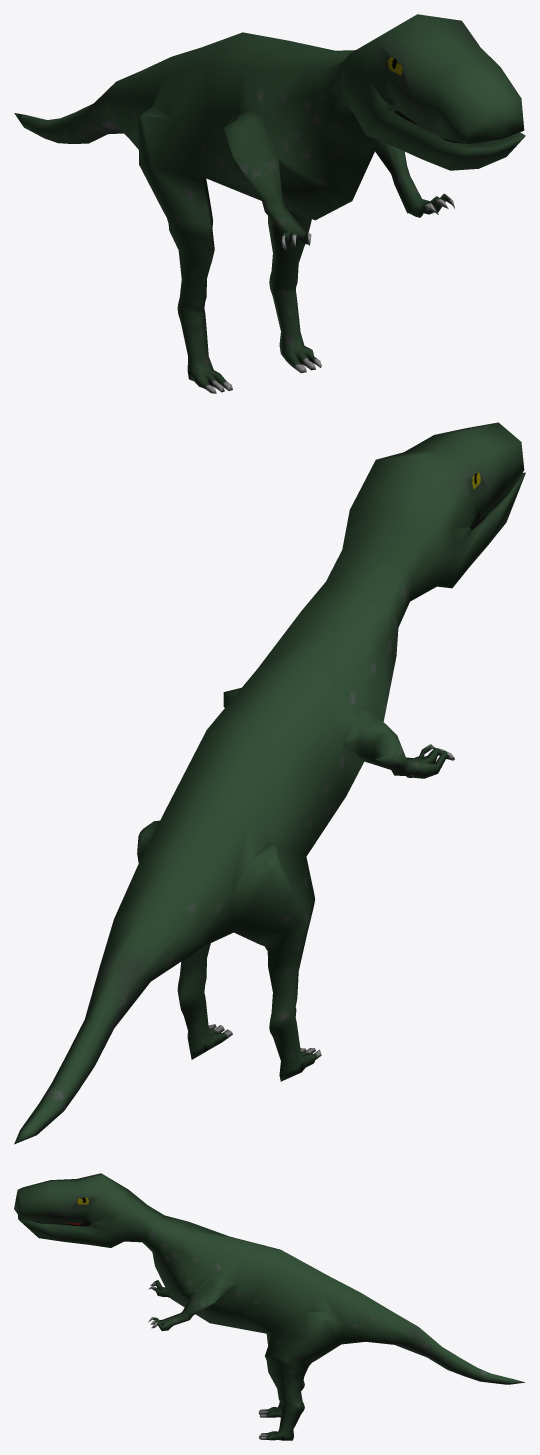
The model's file is albertosaurus.fbx.
3 renders of one model, top to bottom at view 1: azimuth 30°, elevation 25°; view 2: azimuth 150°, elevation 25°; view 3: azimuth 270°, elevation 25°, orthographic. The views are drawn at different scales.
Parts seen in each view (by area): view 1: Cube; view 2: Cube; view 3: Cube.
Part boxes in pixels (box(x1,y1,x2,y2)): Cube: box(14, 14, 525, 393); Cube: box(14, 422, 525, 1144); Cube: box(14, 1173, 525, 1440).
Size of the model in its own units: 6.11 by 16.44 by 30.11.
1 material, 1 textured.
